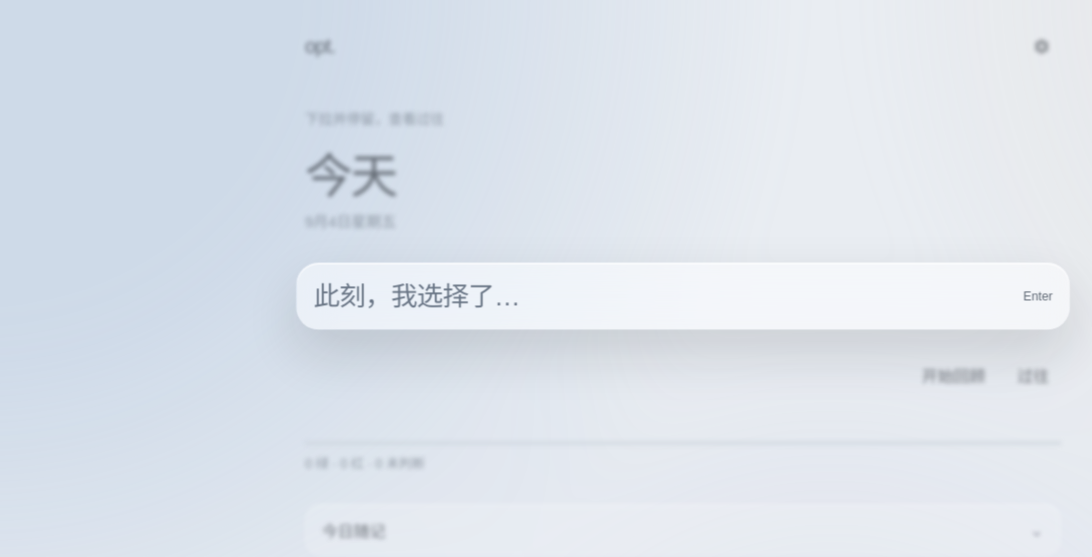
Scenario: App › opens History and returns through its Escape behavior
Click the button "过往" at [1033, 375], box [1005,354,1061,397]
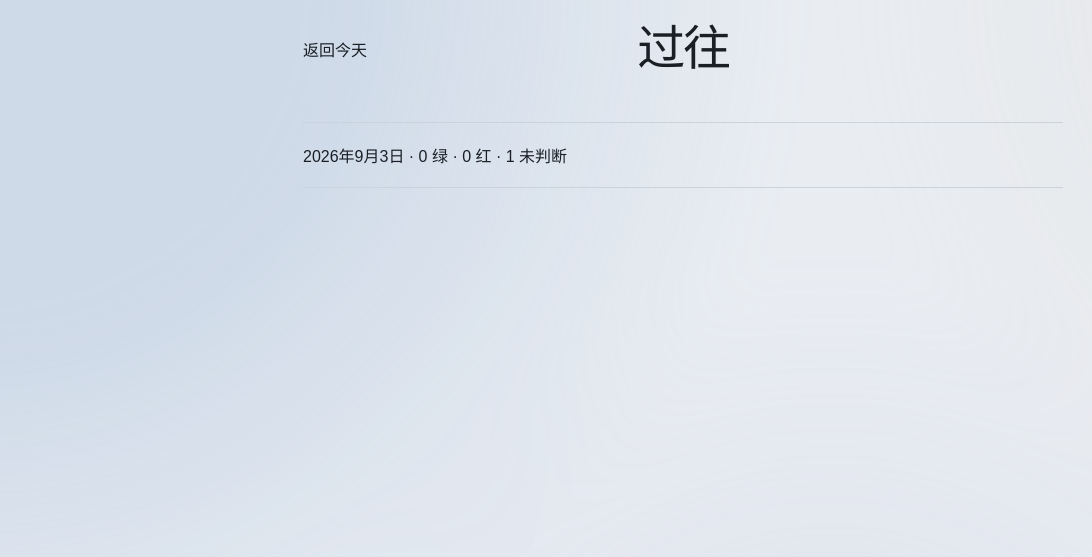
Check: the heading "过往" is shown, box [637,24,729,74]
Press Escape
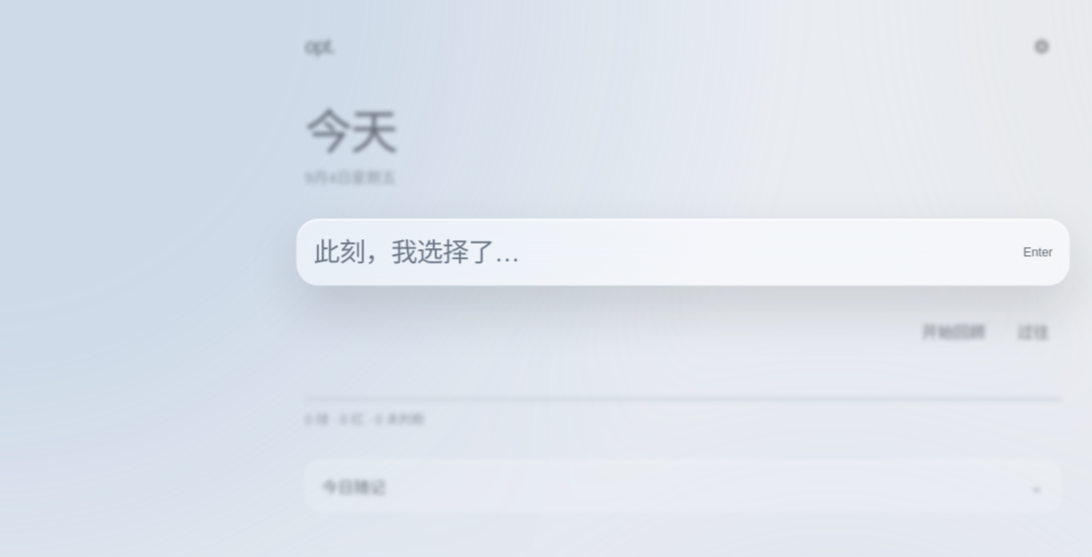
Check: the heading "今天" is shown, box [305,106,396,159]
